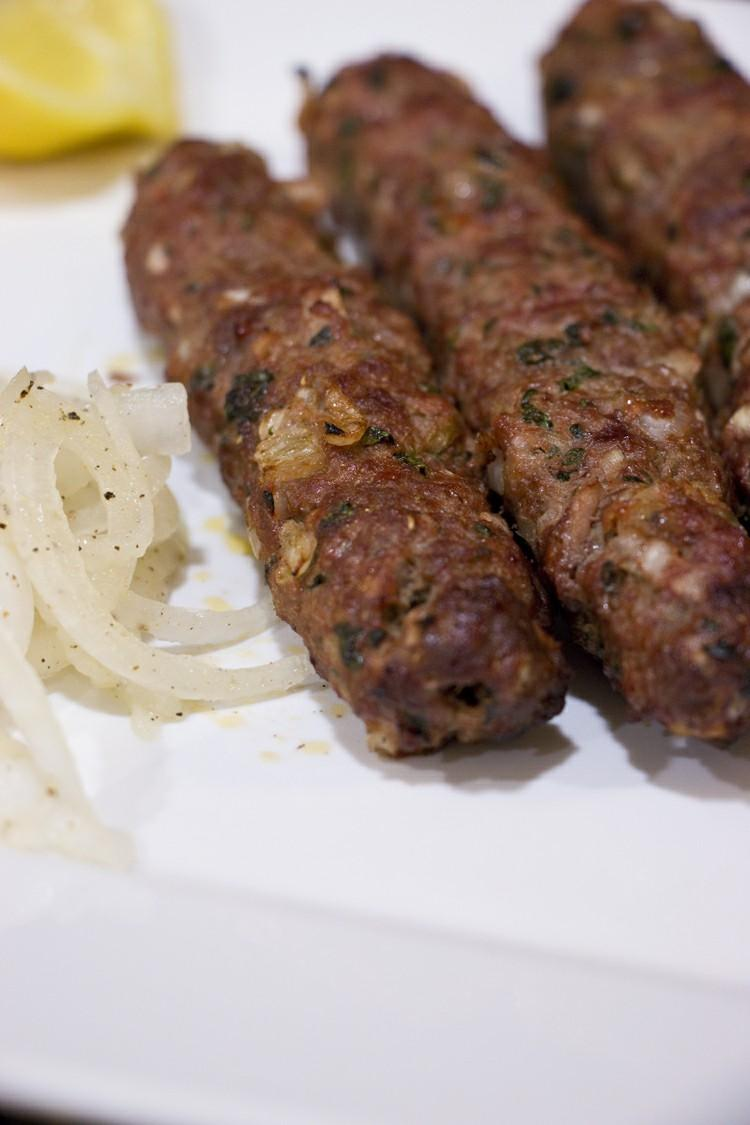Kebab: (291, 50, 750, 743), (118, 138, 584, 755), (535, 4, 750, 539)
